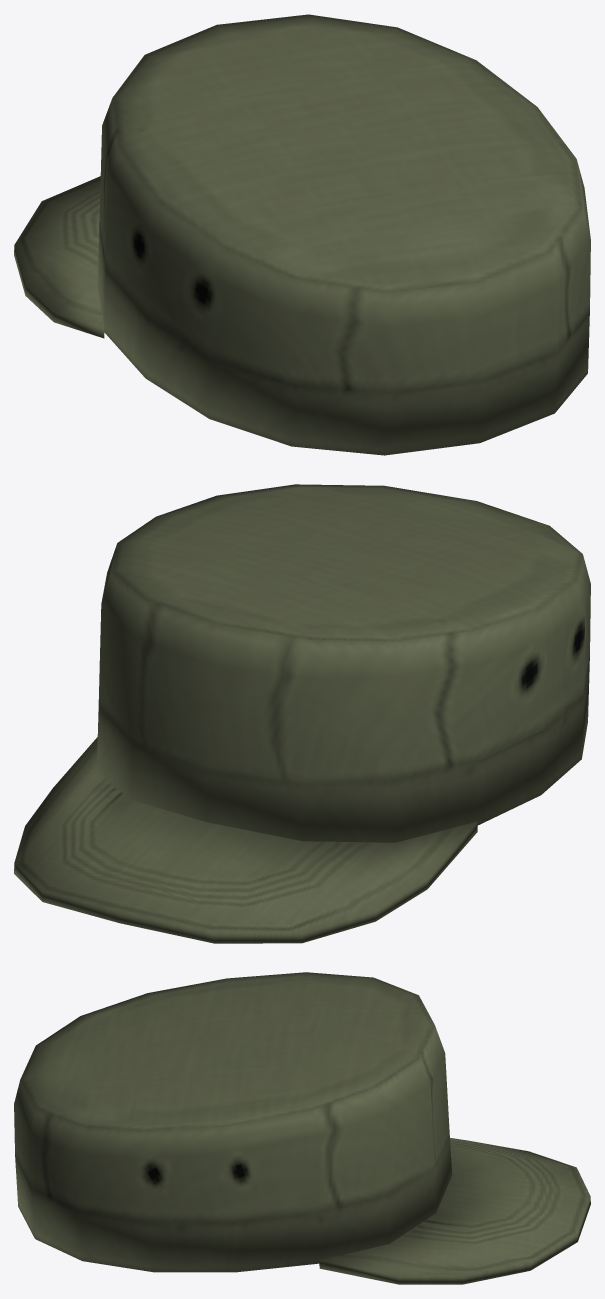
Rendered from UtilityCover_WorldItem.fbx.
The picture shows the model from 3 angles, top to bottom: view 1: azimuth 30°, elevation 25°; view 2: azimuth 150°, elevation 25°; view 3: azimuth 270°, elevation 25°; orthographic projection. The views are drawn at different scales.
Parts seen in each view (by area): view 1: Circle.002; view 2: Circle.002; view 3: Circle.002.
Part boxes in pixels (bbox=[...]): Circle.002: bbox=[14, 14, 590, 455]; Circle.002: bbox=[14, 484, 590, 943]; Circle.002: bbox=[14, 972, 590, 1284].
Size of the model in its own units: 0.2702 by 0.1582 by 0.4288.
